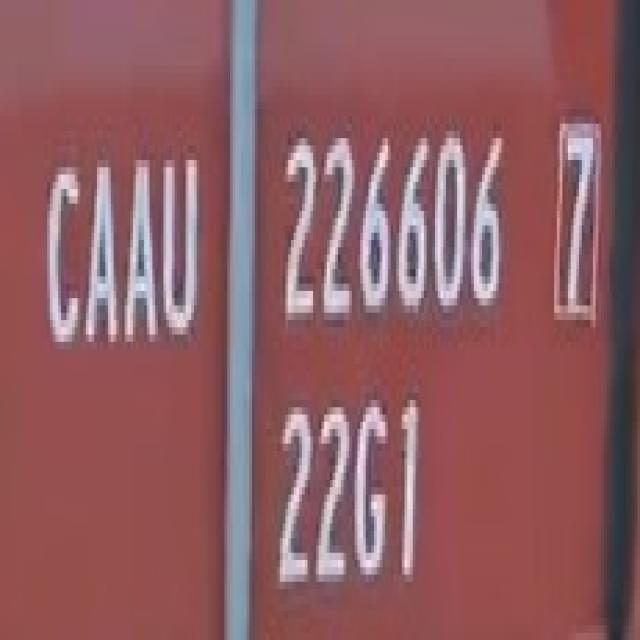dv: (544, 100, 610, 350)
owner: (38, 130, 206, 364)
serial: (272, 104, 512, 350)
size: (259, 380, 428, 604)
